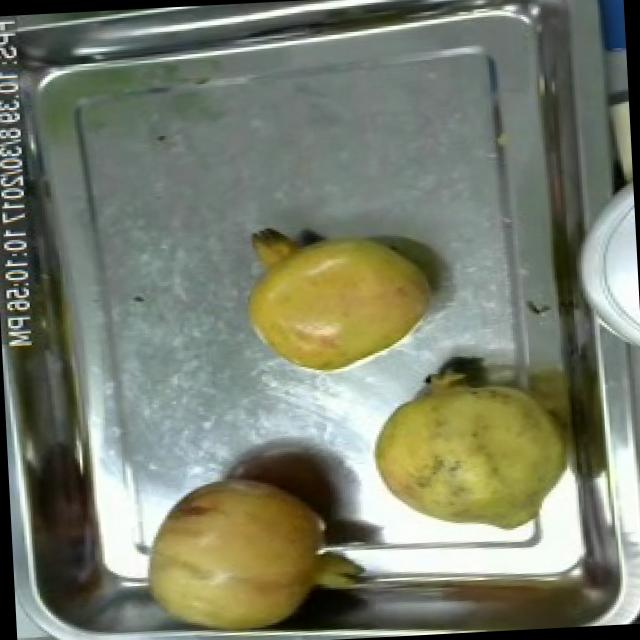fruit: (357, 355, 582, 546), (123, 463, 356, 640), (228, 218, 452, 384)
